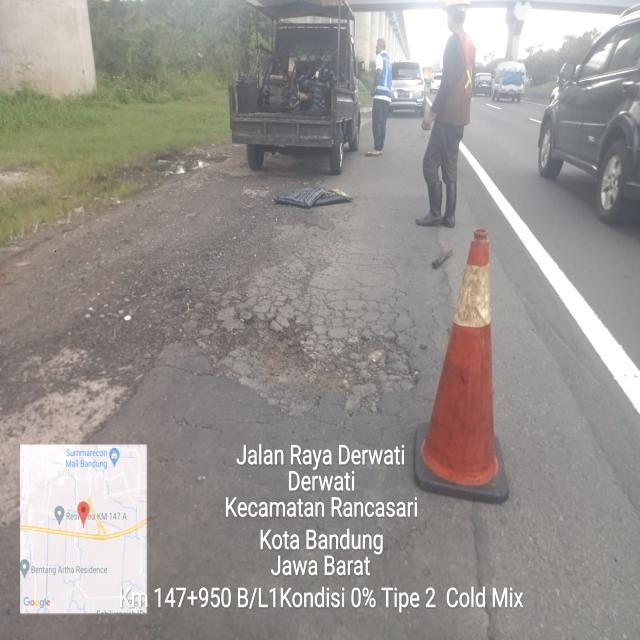Buraco: (184, 312, 424, 421), (136, 150, 236, 180)
